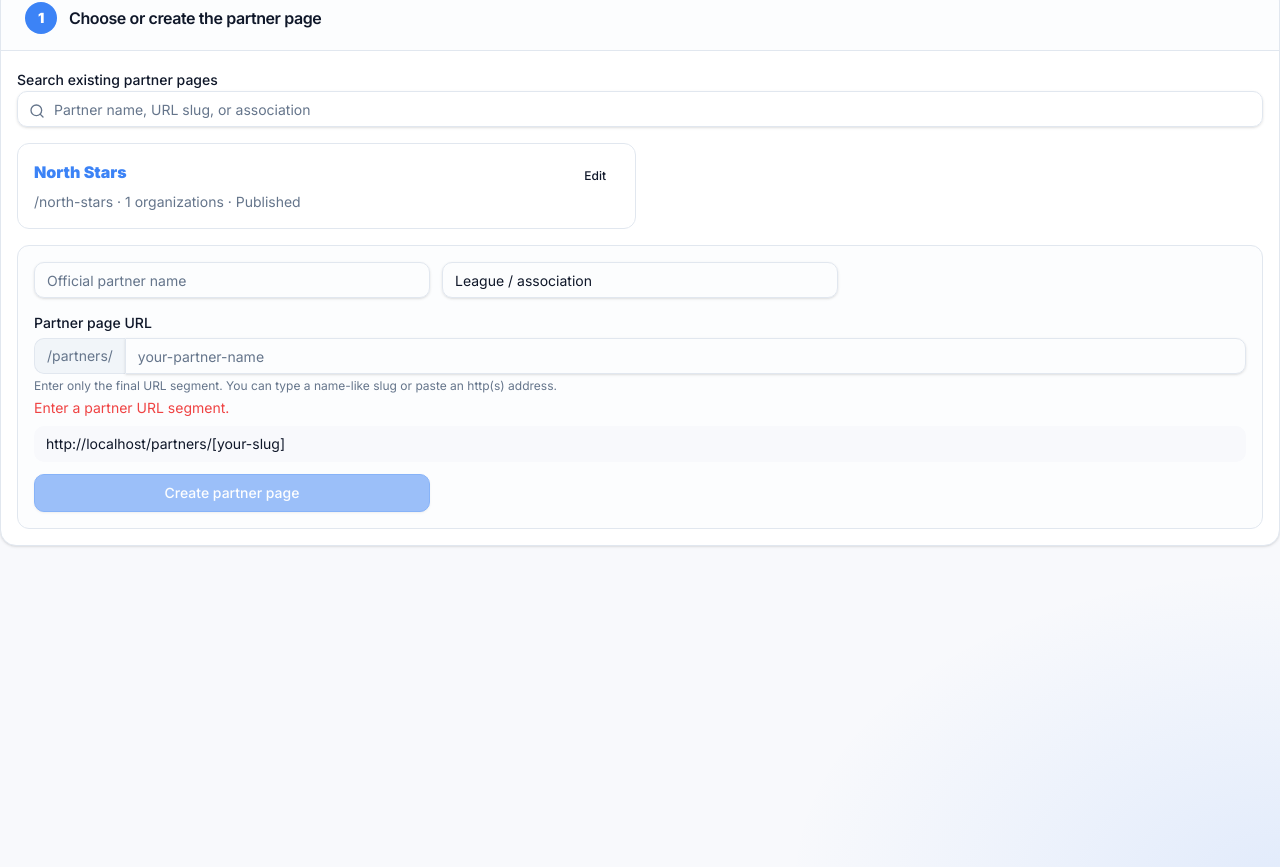
Test: AdminPartnerLanding quick team creation › adds a team to an imported organization and refreshes its directory list
Click the button with aria-label "Edit North Stars" at point(595, 176), box 571,160 -> 619,192
(page scrolled)
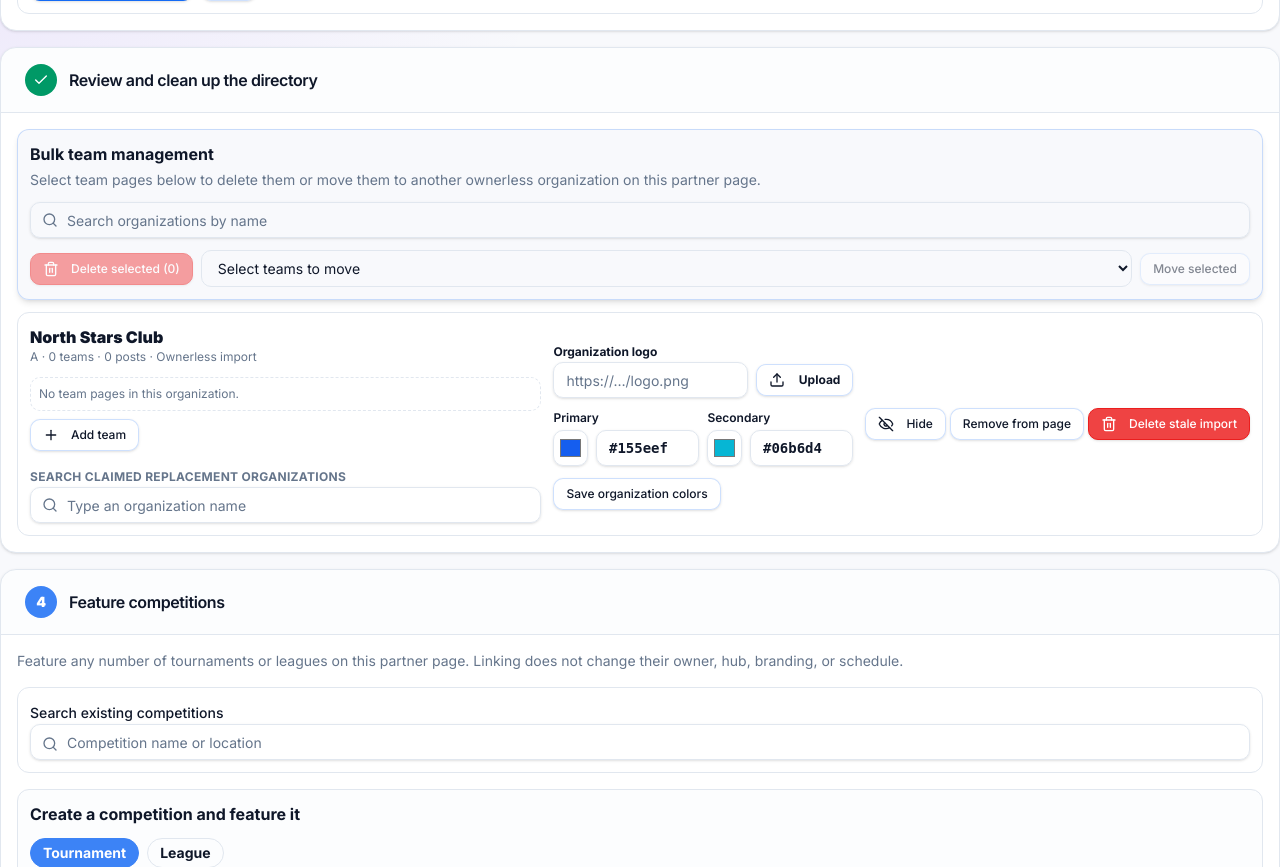
Click the button with aria-label "Add team to North Stars Club" at point(85, 435), box 30,419 -> 139,451
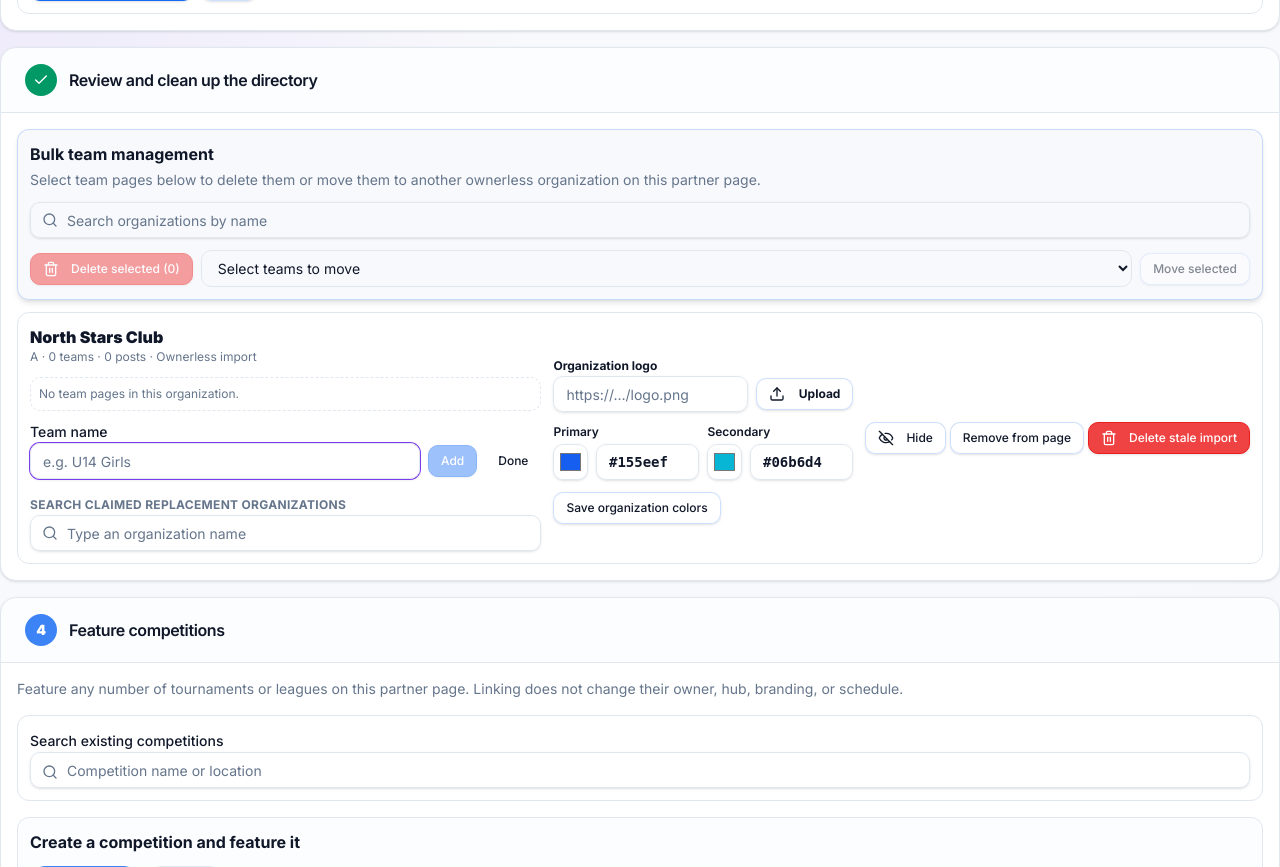
Type "U14 Girls" into the field labelled "Team name" at point(225, 461), box 30,443 -> 420,479
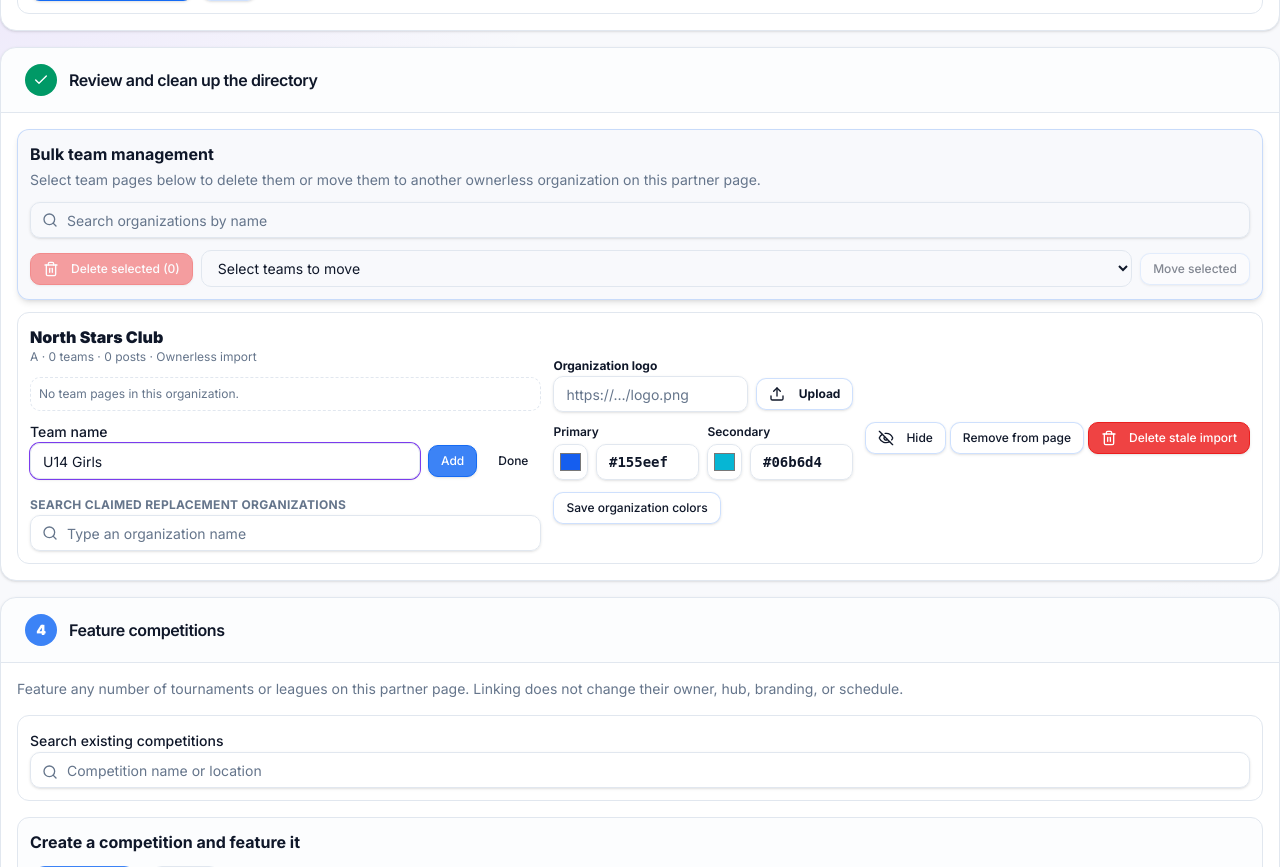
Press Enter
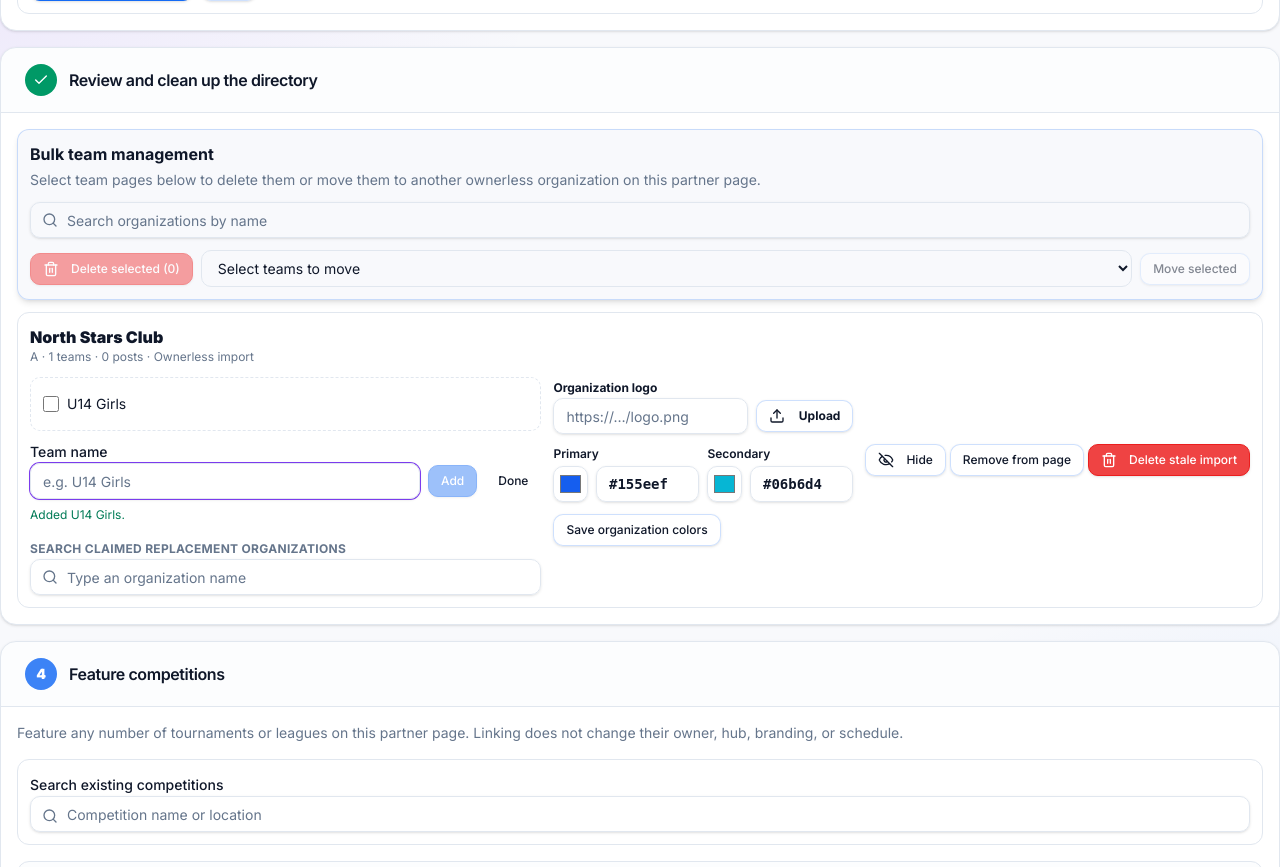
Now the element with test id "member-teams-membership-1" reads "U14 Girls", box 67,395 -> 126,412
Now the text "A · 1 teams · 0 posts · Ownerless import" is shown, box 30,349 -> 254,364
